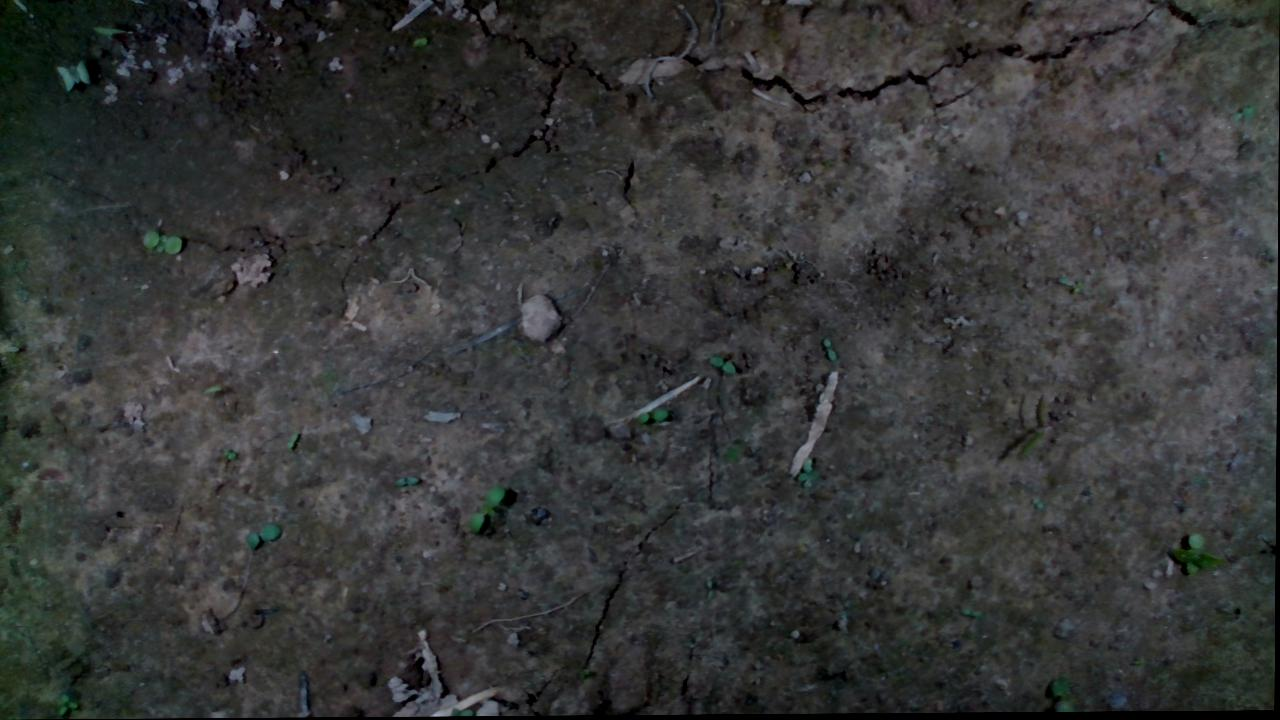weed: (1015, 391, 1051, 461), (468, 484, 508, 535), (139, 229, 184, 254), (244, 522, 284, 550), (635, 406, 670, 424), (708, 355, 737, 375), (57, 692, 79, 718), (820, 336, 838, 362), (391, 475, 421, 488), (285, 428, 299, 450), (220, 447, 236, 460)
